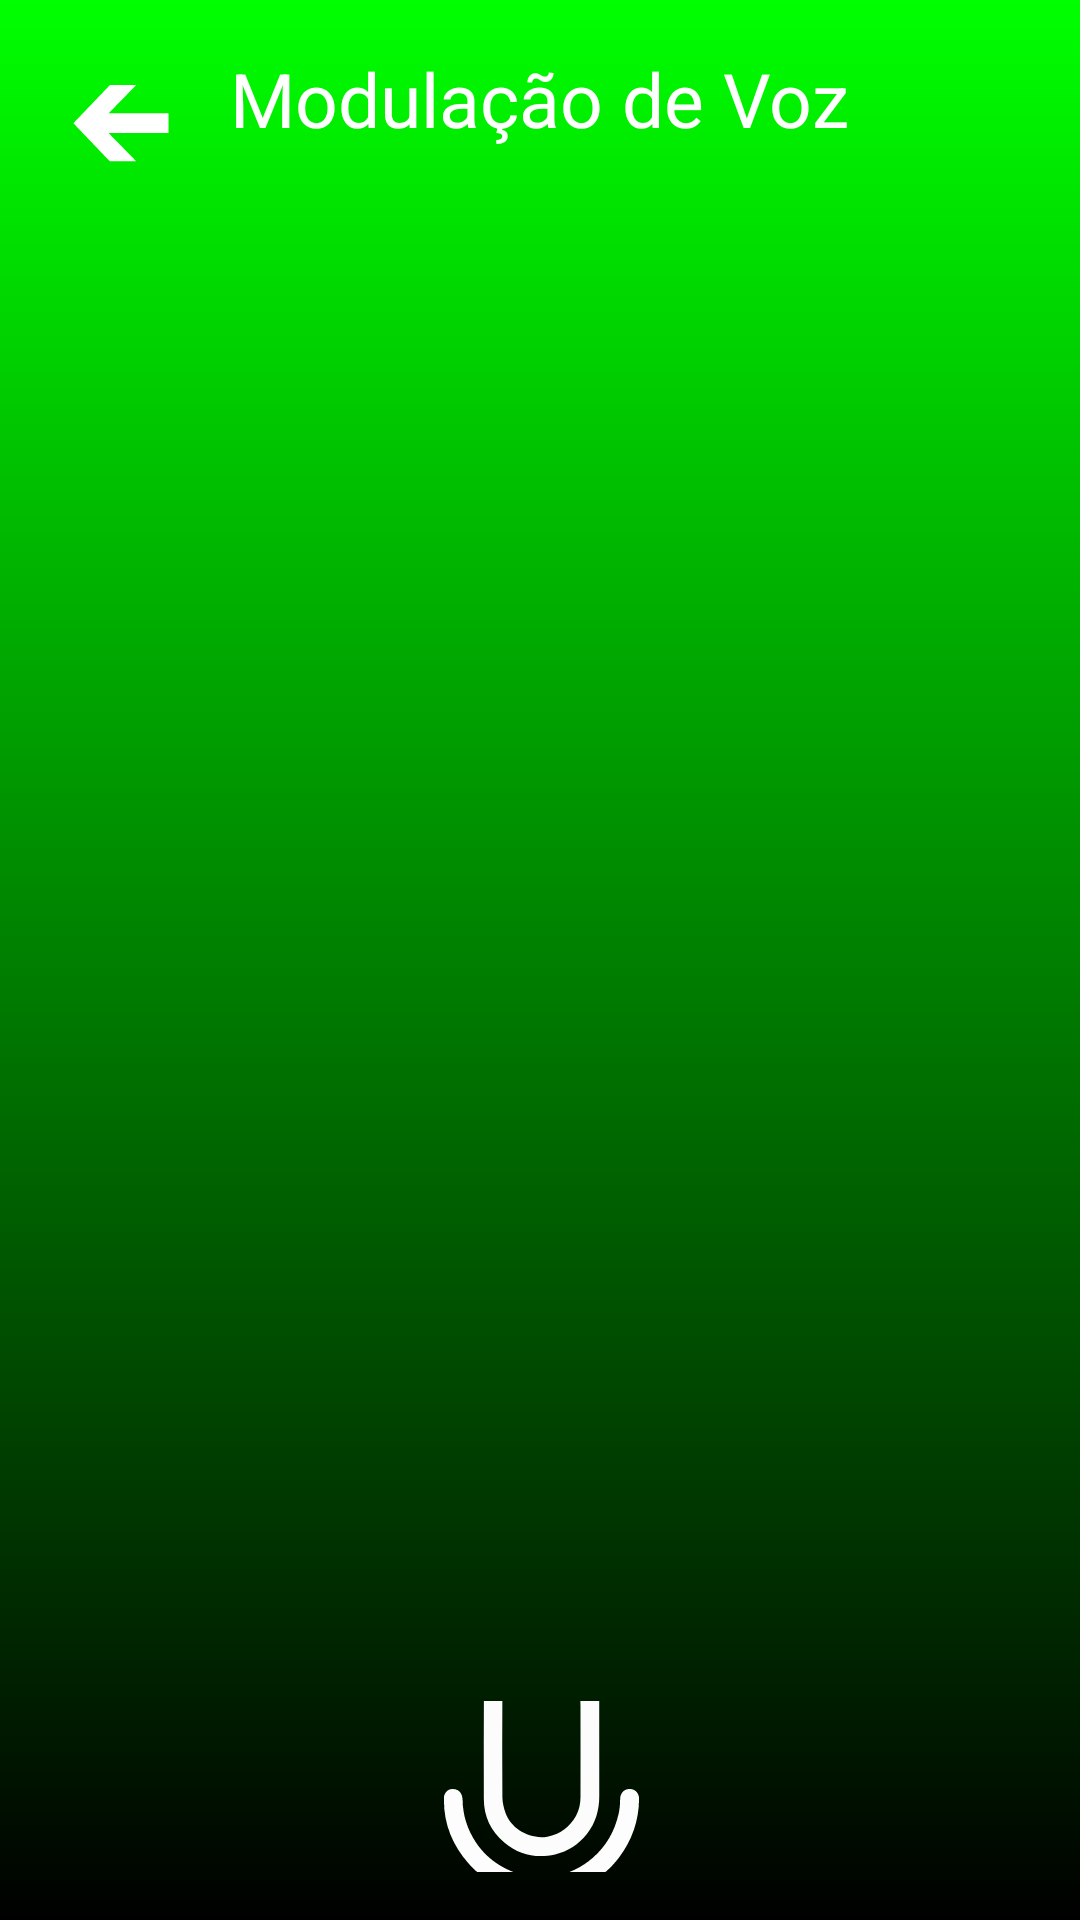

Where to tap for icons on this 1080*1920 app screen, as (x,y):
back arrow: (123,105)
voicedetection: (541,1786)
